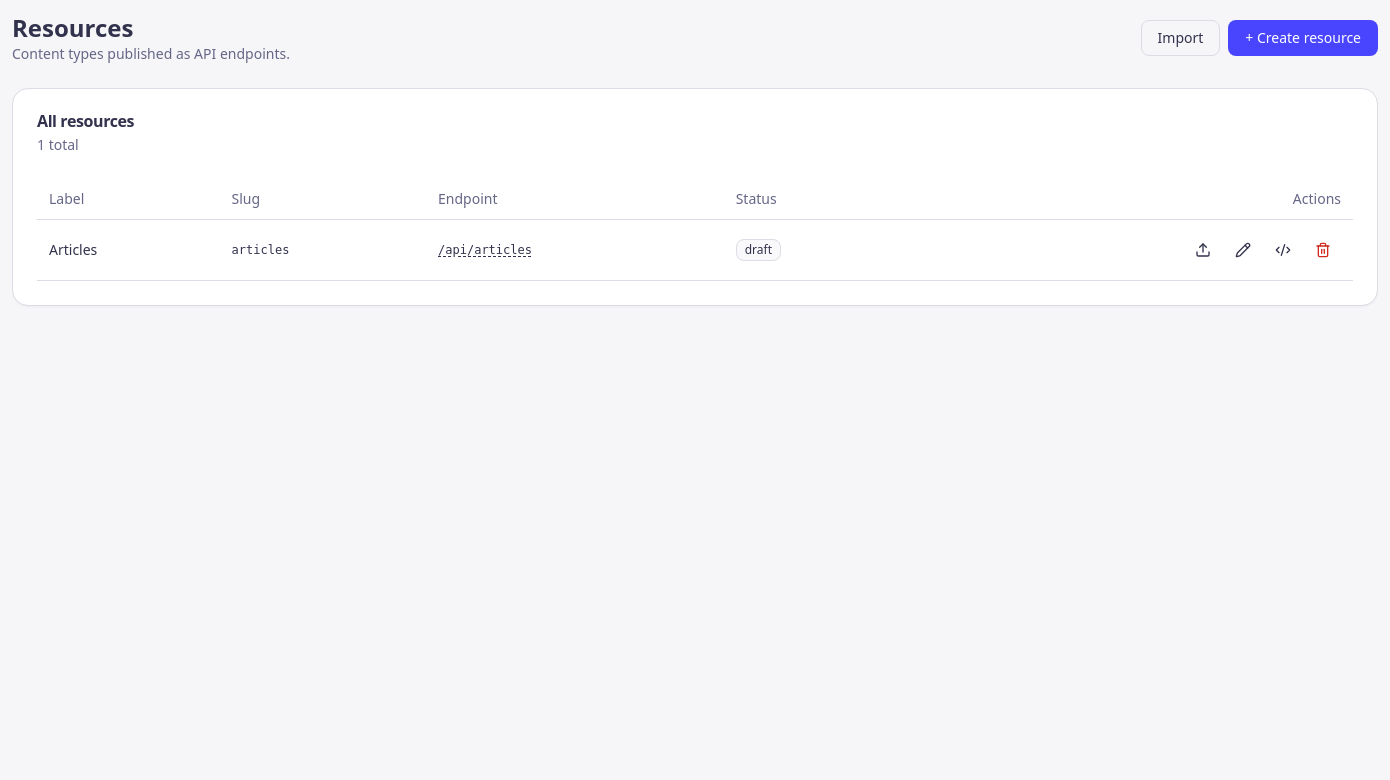
Test case: ResourcesPage › copies endpoint and shows toast
Click the button "/api/articles": (485, 250) [438, 242, 532, 258]
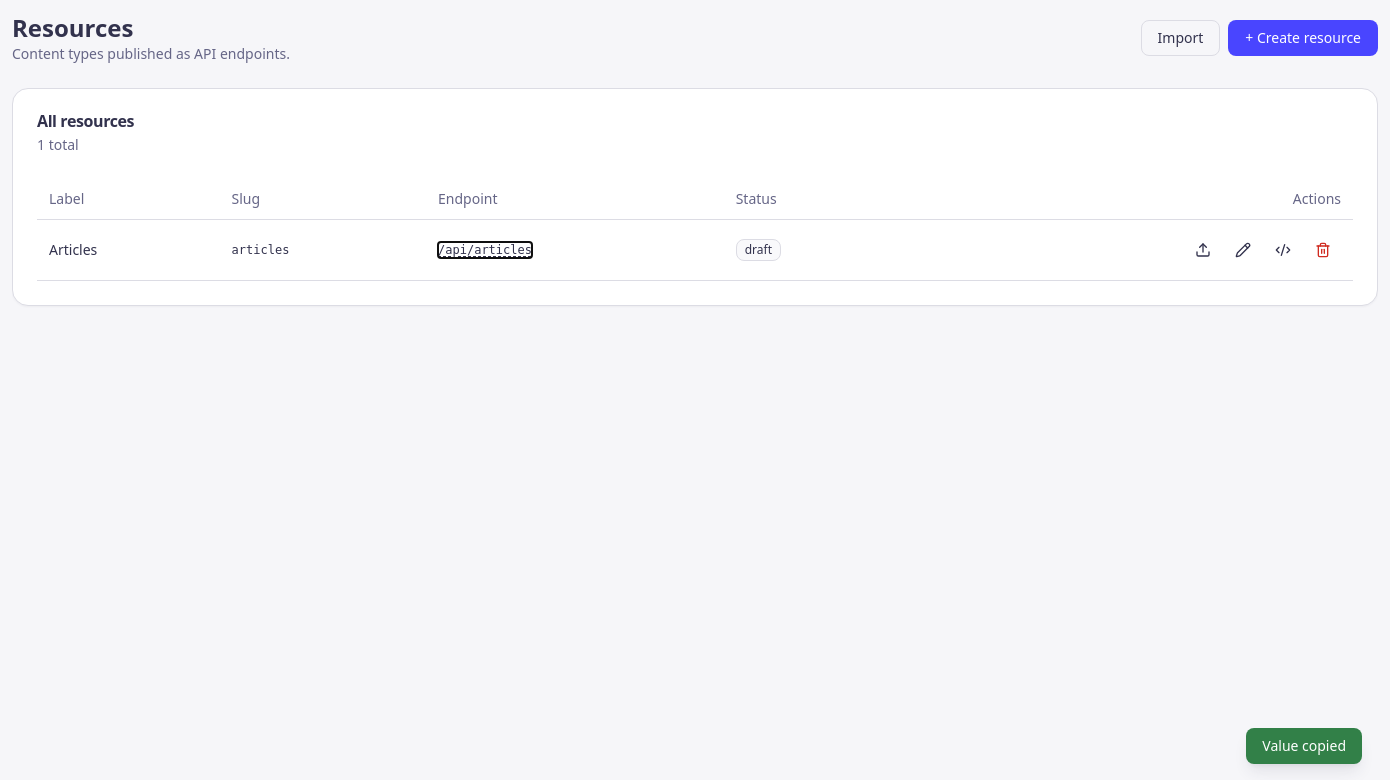
Expected: the message reads "Value copied", [1262, 736, 1346, 755]
